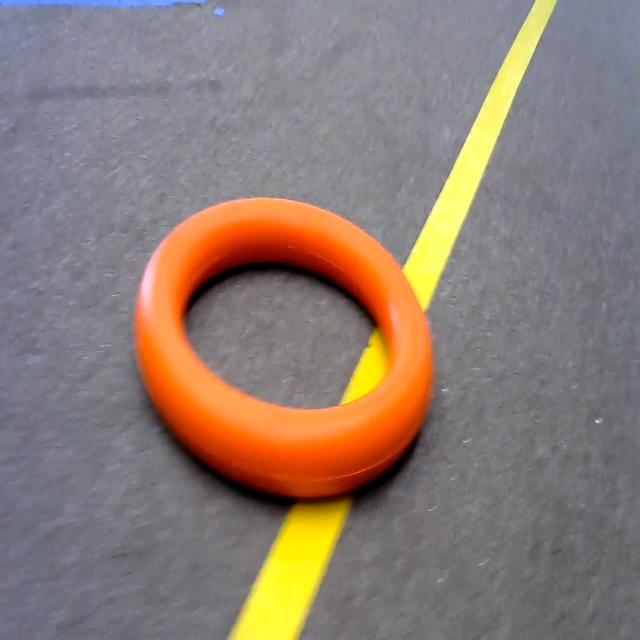note: (121, 176, 462, 517)
